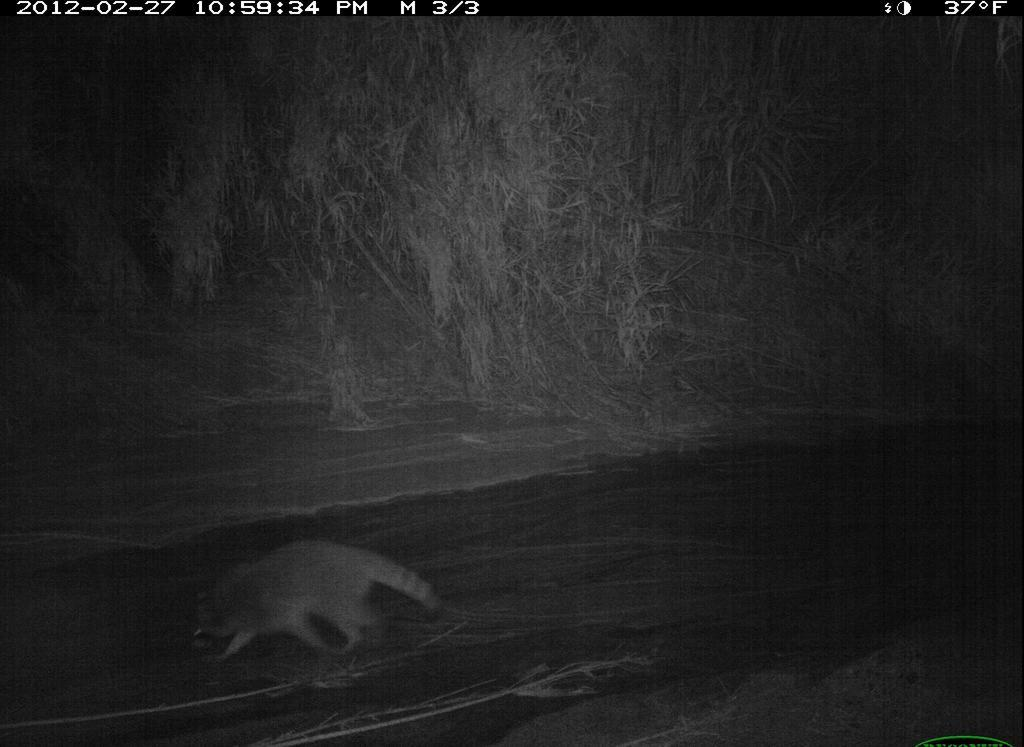raccoon: (182, 534, 451, 675)
